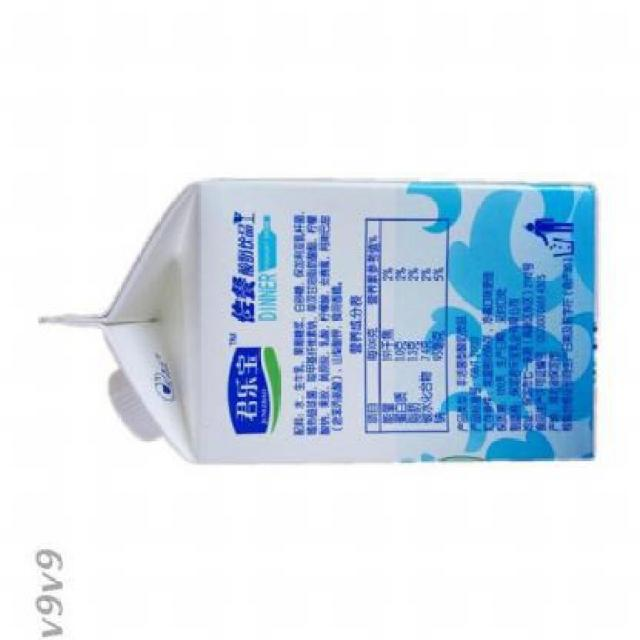non_white_jug: (34, 177, 601, 473)
